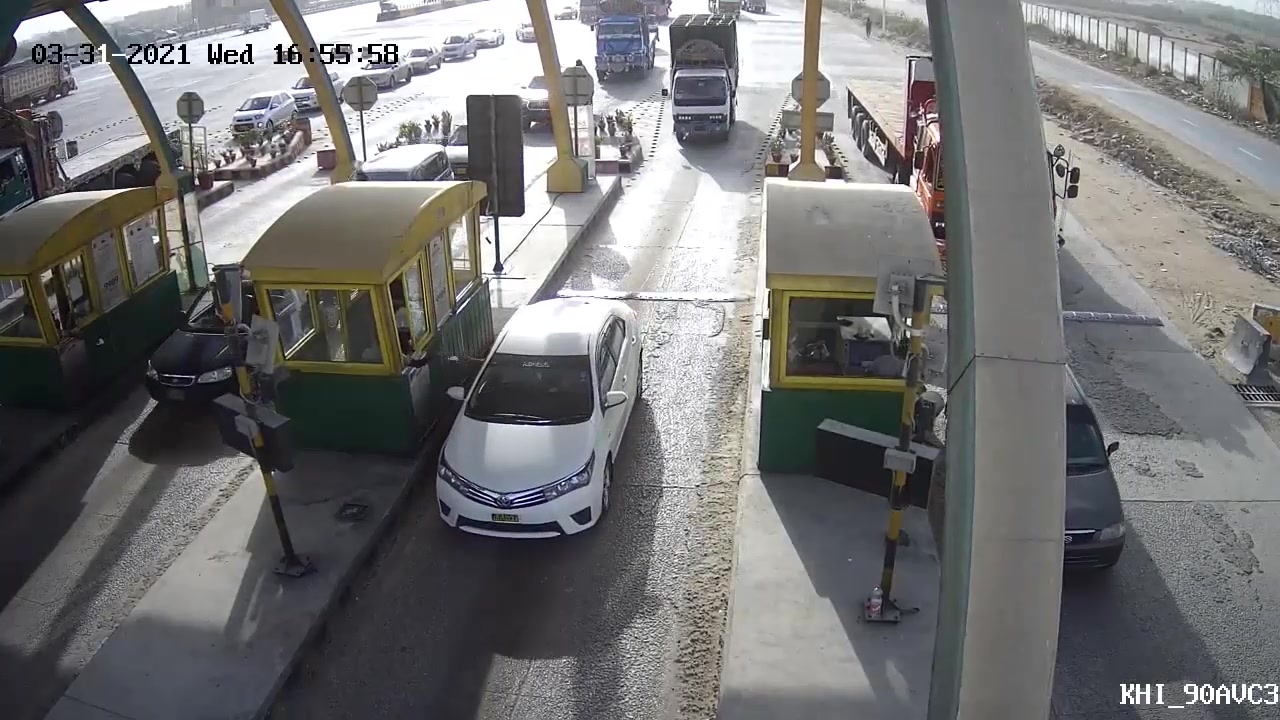F1: (430, 296, 653, 546)
